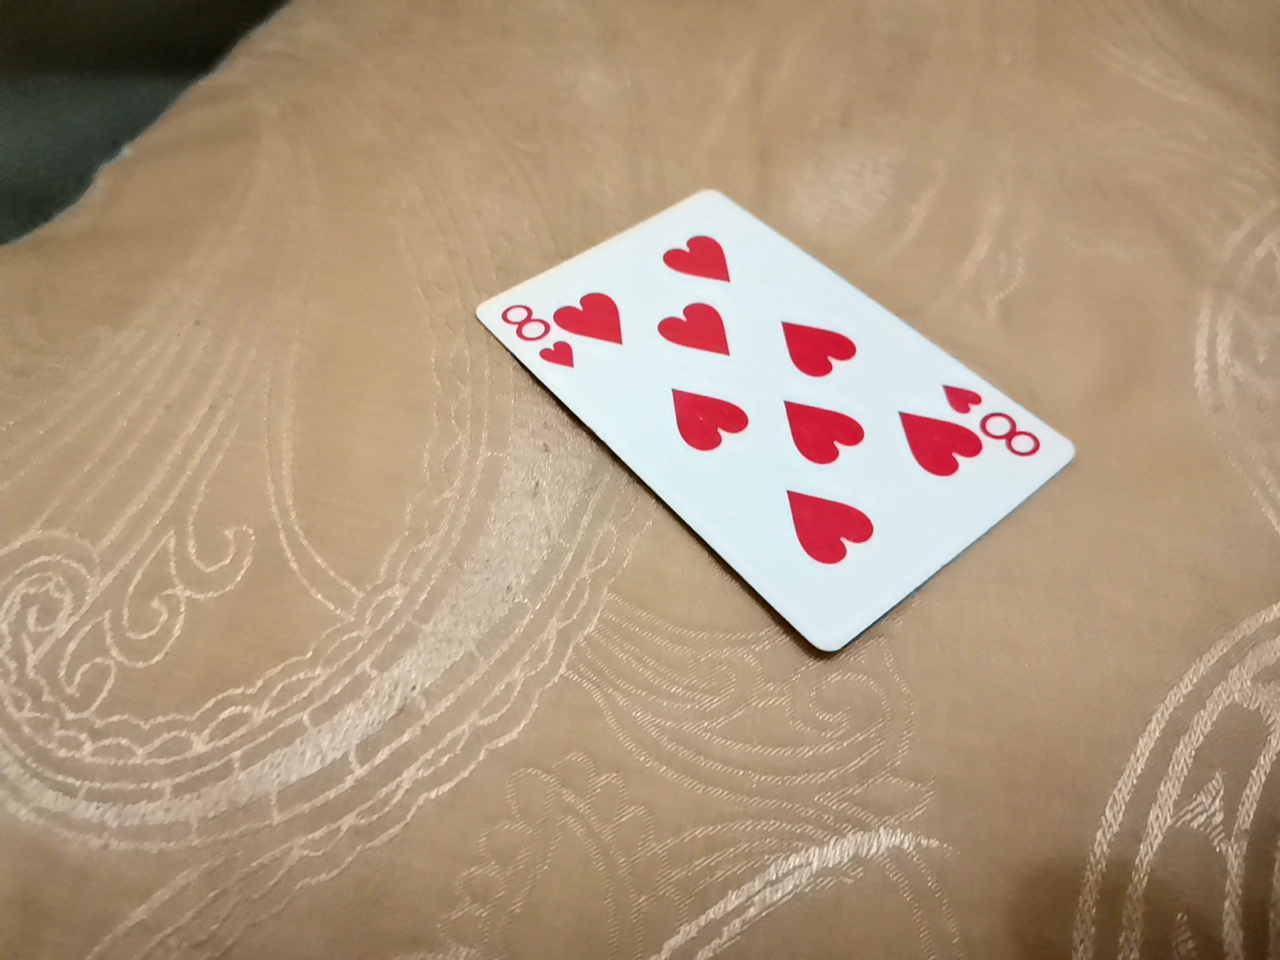hx 8: (466, 172, 1071, 641)
